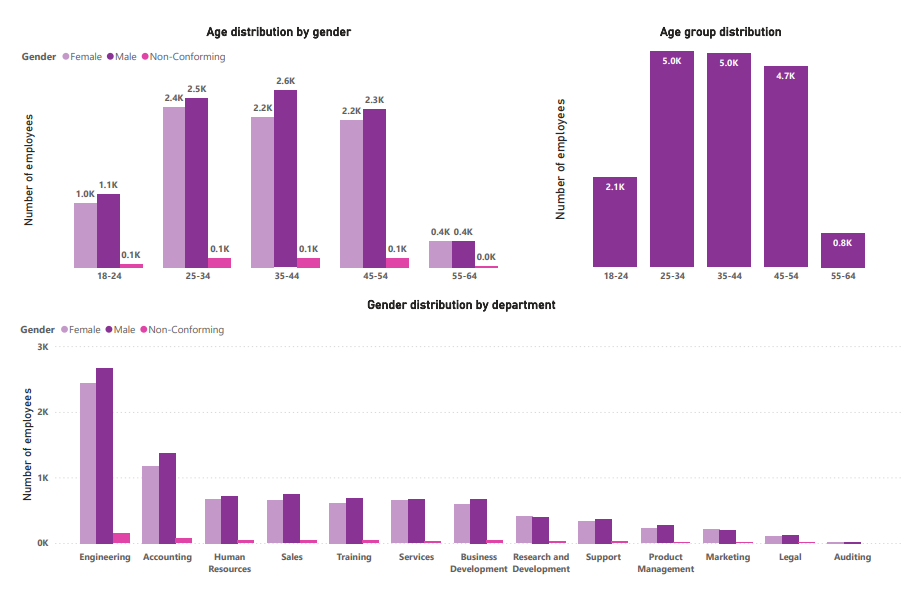

The dashboard page shown, as its layout file describes it:
{"tool":"powerbi","page":{"name":"Page 2","canvas":[1313,826],"ordinal":1},"visuals":[{"type":"columnChart","title":"Age group distribution","fields":{"Category":["age_group.age_group"],"Y":["Sum(age_group.number_of_emp)"]},"box":[784,13.4,502,386.1],"z":0},{"type":"clusteredColumnChart","title":"Age distribution by gender","fields":{"Category":["age_group_gender.age_group"],"Y":["Sum(age_group_gender.number_of_emp)"],"Series":["age_group_gender.gender"]},"box":[6.7,13.4,762.2,386.1],"z":1000},{"type":"clusteredColumnChart","title":"Gender distribution by department","fields":{"Category":["gender_department.department"],"Y":["Sum(gender_department.number_of_emp)"],"Series":["gender_department.gender"]},"box":[5,413,1301.1,413],"z":2000}]}

Visuals, with their boxes in screenshot pixels (x1, y1, x2, y2), scaled from the page's 1313x826 canvas onto the 923x595 screenshot:
"Age group distribution" columnChart: (551, 10, 904, 288)
"Age distribution by gender" clusteredColumnChart: (5, 10, 541, 288)
"Gender distribution by department" clusteredColumnChart: (4, 298, 918, 594)
